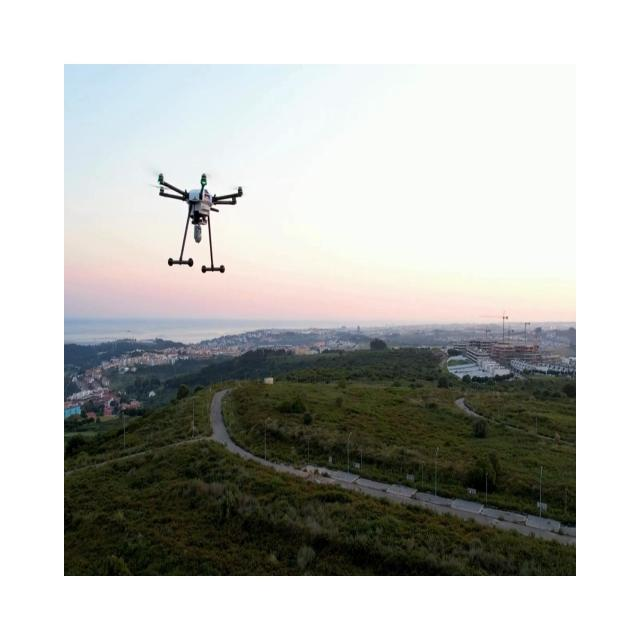drone: (147, 170, 243, 274)
